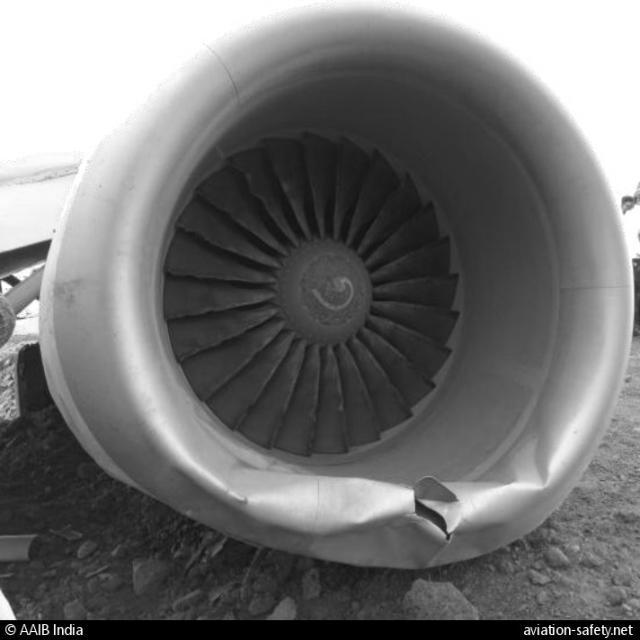crack: (418, 492, 455, 547)
dent: (244, 479, 412, 534), (507, 434, 555, 492)
